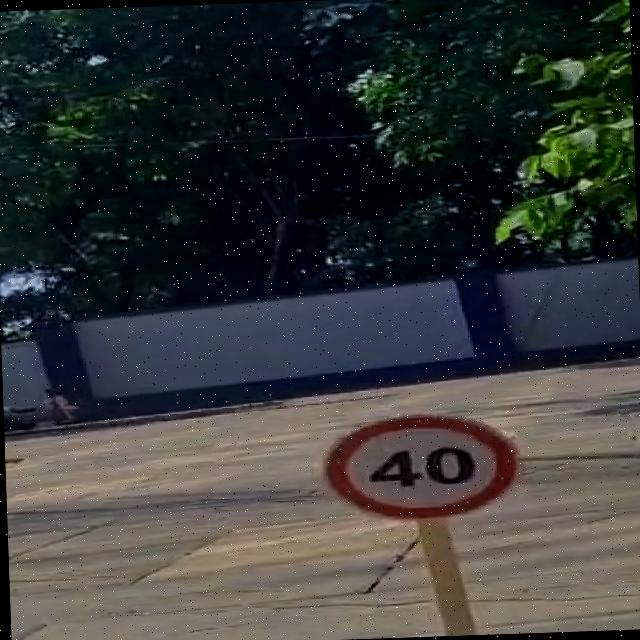Speed40: (312, 406, 534, 526)
